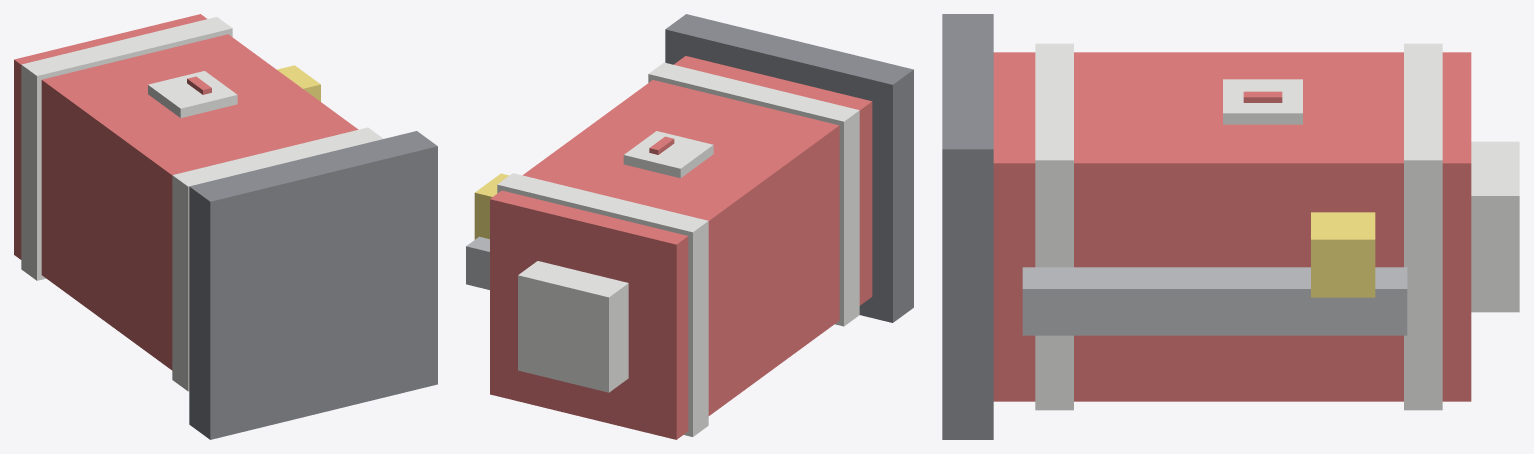
File: fuel_system.glb
The picture shows the model from 3 angles, left to right: view 1: azimuth 30°, elevation 25°; view 2: azimuth 150°, elevation 25°; view 3: azimuth 270°, elevation 25°; orthographic projection. The views are drawn at different scales.
Visible parts, largest first — view 1: Stand, Tank, BandT, BandB, Gauge, Valve; view 2: Tank, Stand, Cap, BandB, BandT, Gauge, Pipe, Valve; view 3: Tank, Pipe, Stand, BandT, BandB, Cap, Valve, Gauge.
Boxes of the visible parts, <box> form: Stand: <box>189,131,437,439</box>; Tank: <box>14,14,358,370</box>; BandT: <box>21,17,232,280</box>; BandB: <box>172,127,383,391</box>; Gauge: <box>148,71,237,117</box>; Valve: <box>277,65,320,101</box>; Tank: <box>490,56,872,439</box>; Stand: <box>665,14,913,322</box>; Cap: <box>518,261,628,392</box>; BandB: <box>648,62,859,326</box>; BandT: <box>497,173,708,436</box>; Gauge: <box>623,131,713,178</box>; Pipe: <box>466,236,489,289</box>; Valve: <box>474,173,509,239</box>; Tank: <box>993,52,1471,401</box>; Pipe: <box>1022,267,1407,335</box>; Stand: <box>942,14,993,439</box>; BandT: <box>1404,43,1442,410</box>; BandB: <box>1035,43,1073,410</box>; Cap: <box>1471,141,1519,312</box>; Valve: <box>1311,212,1375,297</box>; Gauge: <box>1223,79,1302,124</box>.
Size of the model in its own units: 1.15 by 1 by 1.8.
